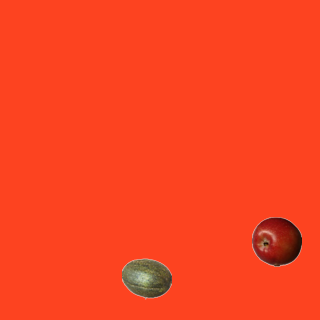Apple Braeburn: (251, 216, 301, 266)
Melon Piel de Sapo: (121, 253, 171, 303)
